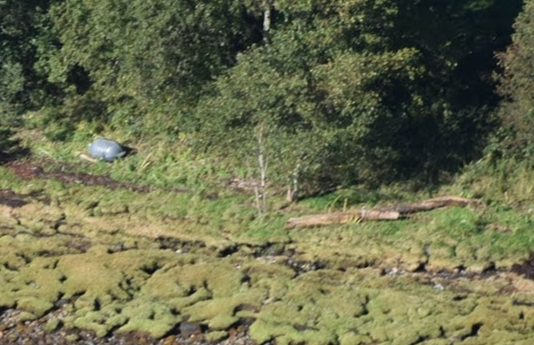straight_bar: (284, 192, 474, 226)
tube: (64, 111, 151, 183)
